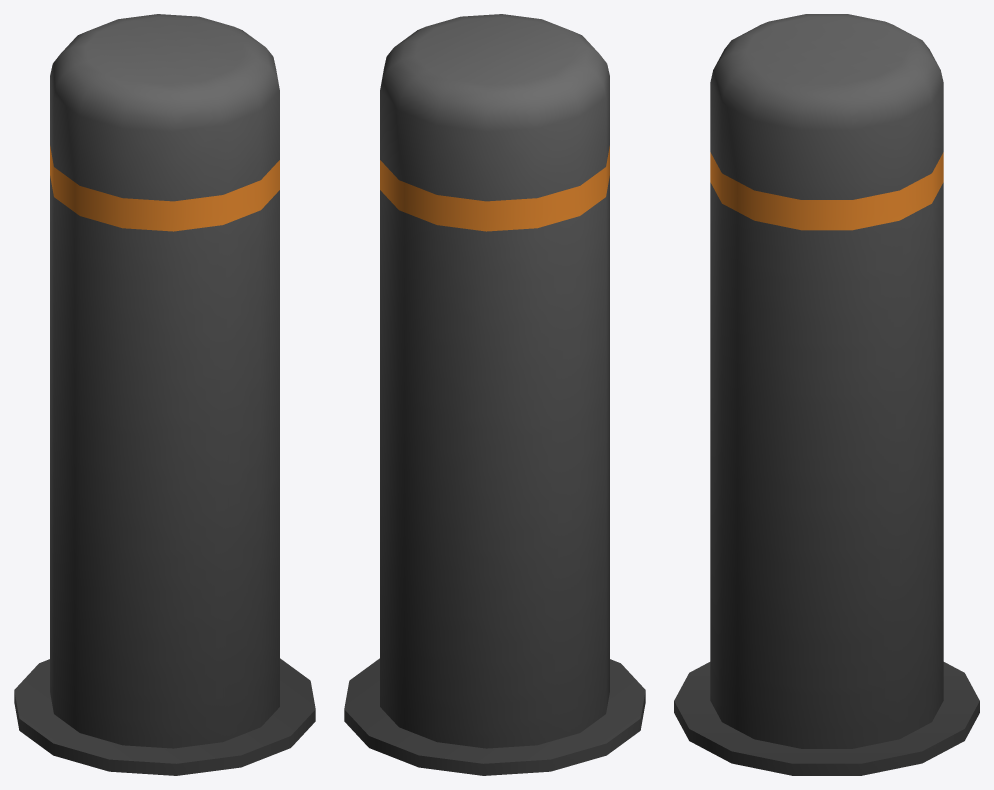
Rendered from Bollard.glb.
3 views of the same model, side by side, from view 1: azimuth 30°, elevation 25°; view 2: azimuth 150°, elevation 25°; view 3: azimuth 270°, elevation 25° (orthographic).
Parts seen in each view (by area): view 1: bollard; view 2: bollard; view 3: bollard.
Boxes of the visible parts, x1,y1,x2,y2 form: bollard: [14, 14, 315, 775]; bollard: [344, 14, 645, 775]; bollard: [674, 14, 979, 775].
Size of the model in its own units: 0.4078 by 1 by 0.4183.
1 material, 1 textured.
